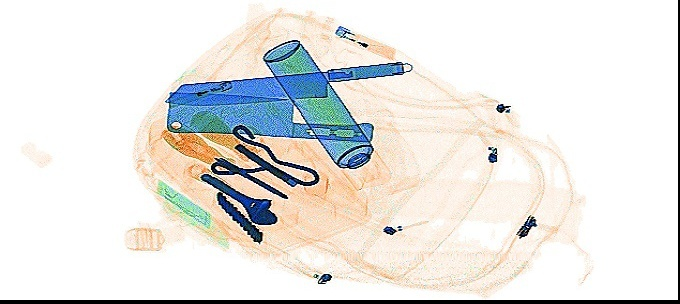knife: (163, 59, 413, 105), (164, 87, 373, 142)
lighter: (332, 23, 396, 60), (164, 78, 233, 109)
pressure: (261, 35, 390, 191)
slingshot: (208, 121, 319, 187)
